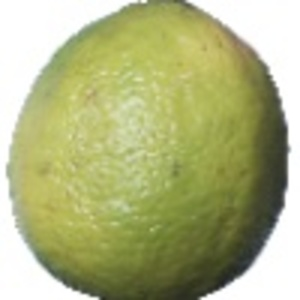limão: (6, 1, 289, 300)
